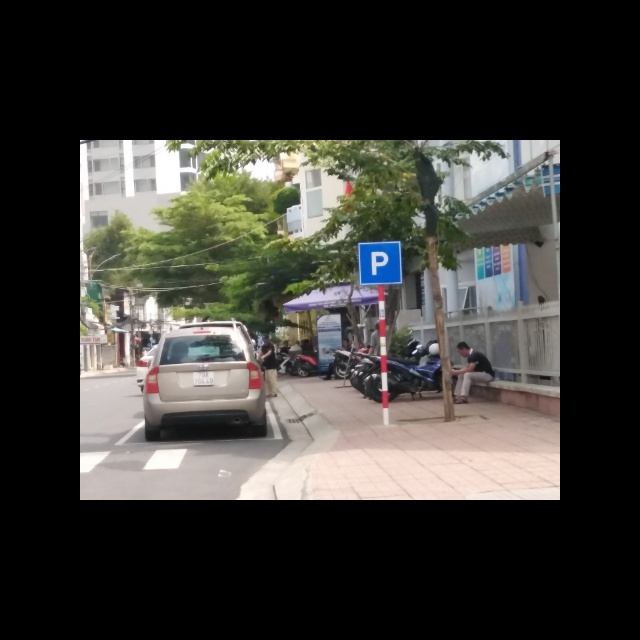Nơi đỗ xe: (359, 241, 405, 286)
